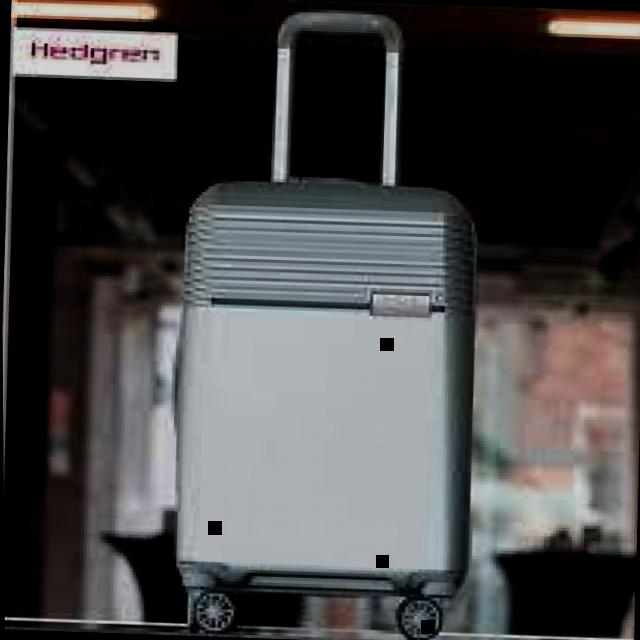luggage: (155, 165, 490, 618)
